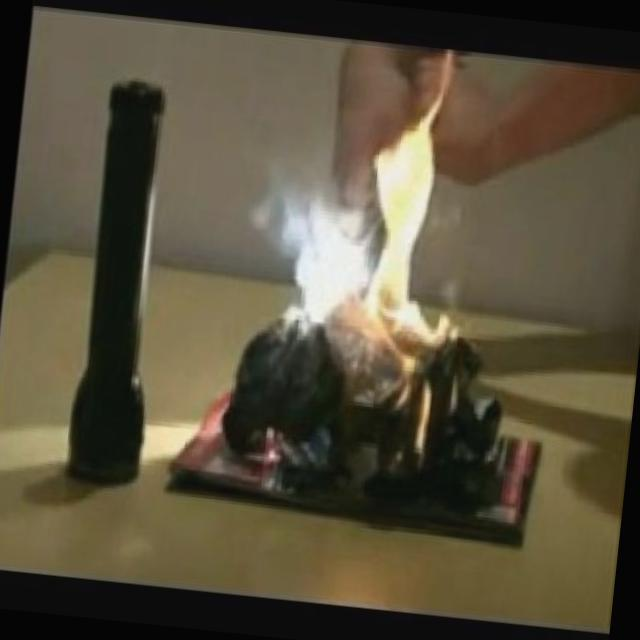fire: (266, 55, 484, 389)
